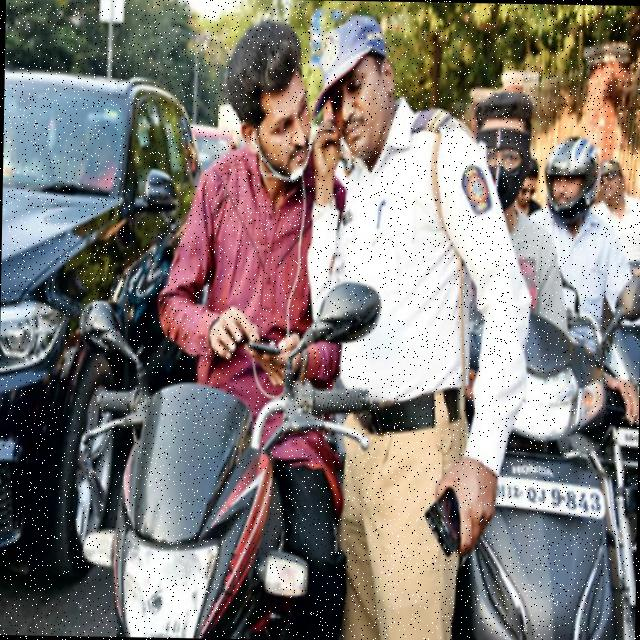No helmet: (220, 18, 318, 188)
